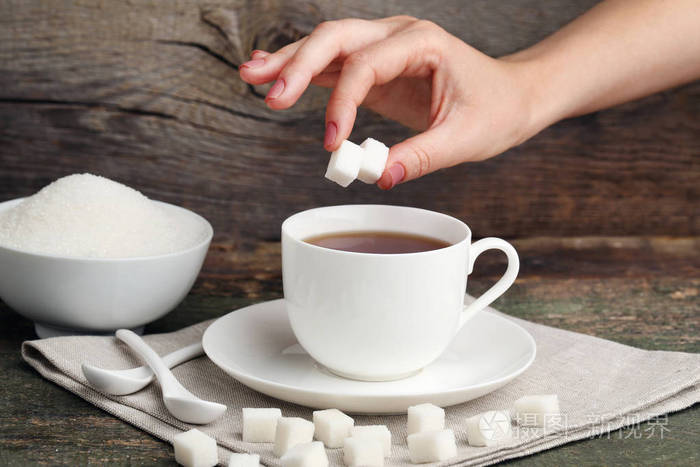no-phone: (230, 10, 567, 194)
